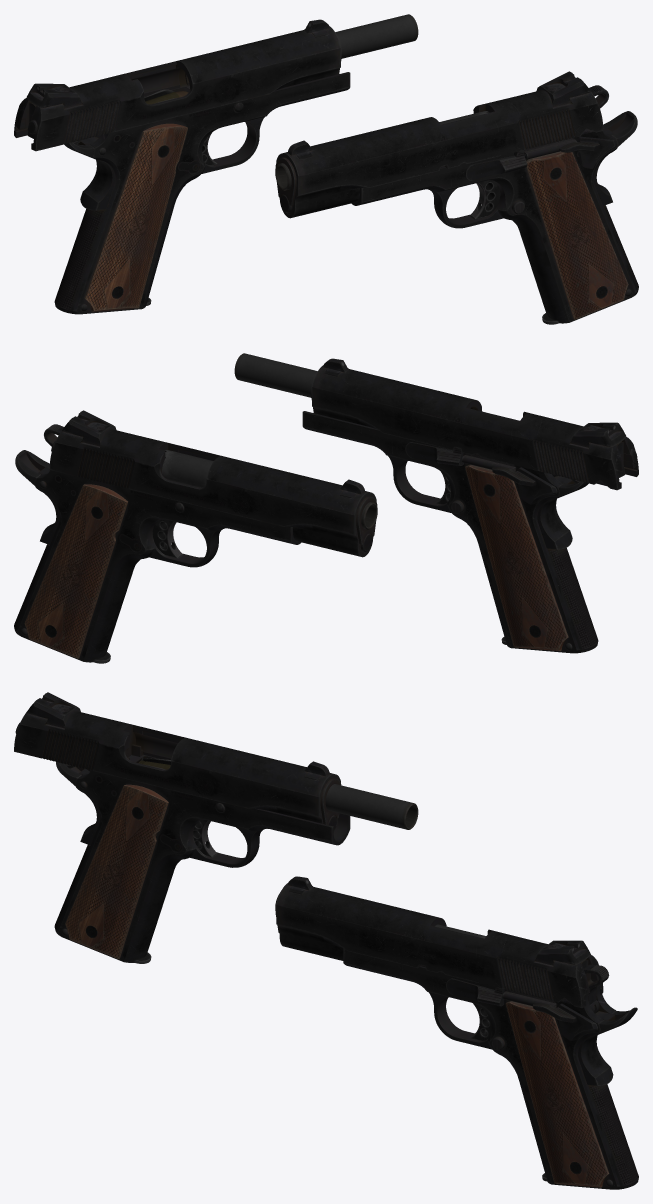
The model's file is M1911 - Pistol.fbx.
The picture shows the model from 3 angles, top to bottom: view 1: azimuth 30°, elevation 25°; view 2: azimuth 150°, elevation 25°; view 3: azimuth 330°, elevation 25°; orthographic projection.
Parts seen in each view (by area): view 1: desirefx.me_010, desirefx.me_002, desirefx.me_008, desirefx.me_013, desirefx.me_011, desirefx.me_003, desirefx.me_005, desirefx.me_006, desirefx.me_007; view 2: desirefx.me_002, desirefx.me_010, desirefx.me_008, desirefx.me_013, desirefx.me_011, desirefx.me_007, desirefx.me_016, desirefx.me_017, desirefx.me_006; view 3: desirefx.me_010, desirefx.me_002, desirefx.me_008, desirefx.me_013, desirefx.me_011, desirefx.me_005, desirefx.me_003.
Part boxes in pixels (box(x1,y1,x2,y2)): desirefx.me_010: box(54, 72, 350, 314); desirefx.me_002: box(351, 111, 638, 323); desirefx.me_008: box(275, 71, 603, 218); desirefx.me_013: box(14, 19, 341, 151); desirefx.me_011: box(335, 14, 418, 58); desirefx.me_003: box(465, 150, 527, 180); desirefx.me_005: box(559, 136, 616, 168); desirefx.me_006: box(470, 180, 500, 219); desirefx.me_007: box(275, 111, 488, 190); desirefx.me_002: box(14, 450, 301, 662); desirefx.me_010: box(302, 411, 598, 653); desirefx.me_008: box(49, 410, 377, 557); desirefx.me_013: box(311, 358, 638, 490); desirefx.me_011: box(234, 353, 317, 397); desirefx.me_007: box(162, 450, 377, 529); desirefx.me_016: box(492, 466, 557, 504); desirefx.me_017: box(405, 442, 463, 465); desirefx.me_006: box(152, 519, 182, 558); desirefx.me_010: box(54, 754, 350, 962); desirefx.me_002: box(343, 948, 638, 1189); desirefx.me_008: box(275, 876, 603, 1007); desirefx.me_013: box(14, 692, 341, 833); desirefx.me_011: box(325, 784, 418, 829); desirefx.me_005: box(533, 1003, 597, 1040); desirefx.me_003: box(446, 978, 504, 1006).
Bounding box in the file's own units: 82.02 × 45.66 × 7.89.
